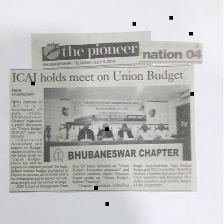news_paper: (7, 30, 202, 194)
